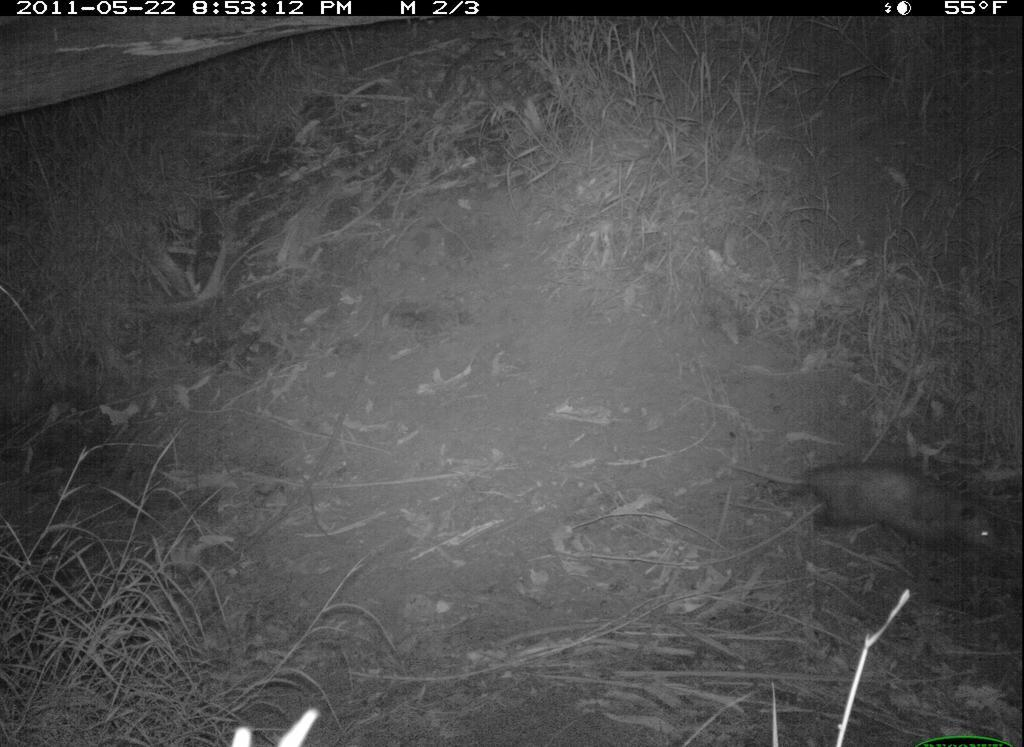opossum: (710, 446, 1021, 587)
